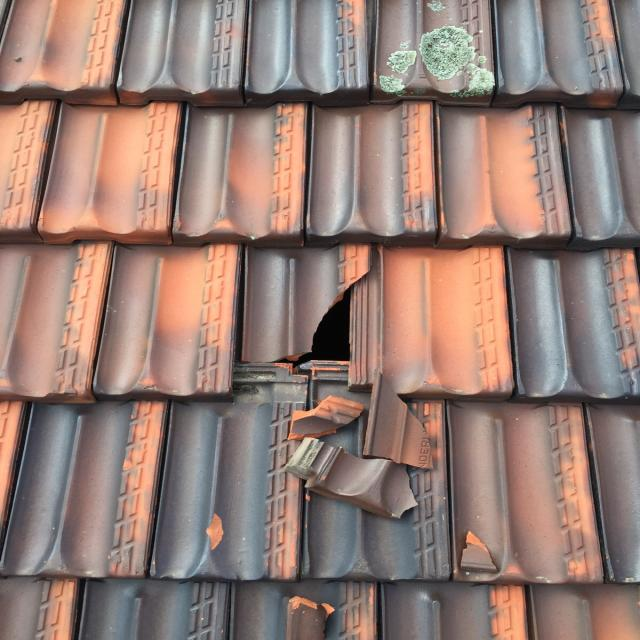damage: (190, 220, 457, 538)
